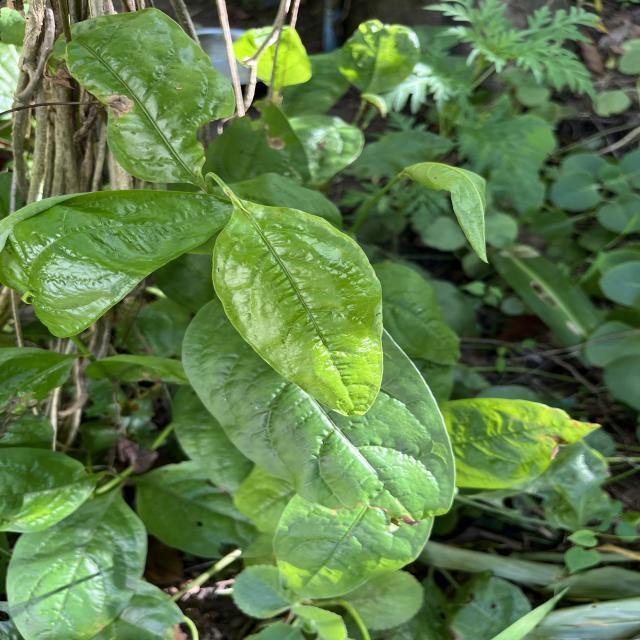Plumbago indica: (206, 197, 390, 423), (2, 182, 230, 342), (49, 5, 229, 184), (3, 483, 151, 640), (256, 494, 442, 603), (436, 392, 604, 490)
